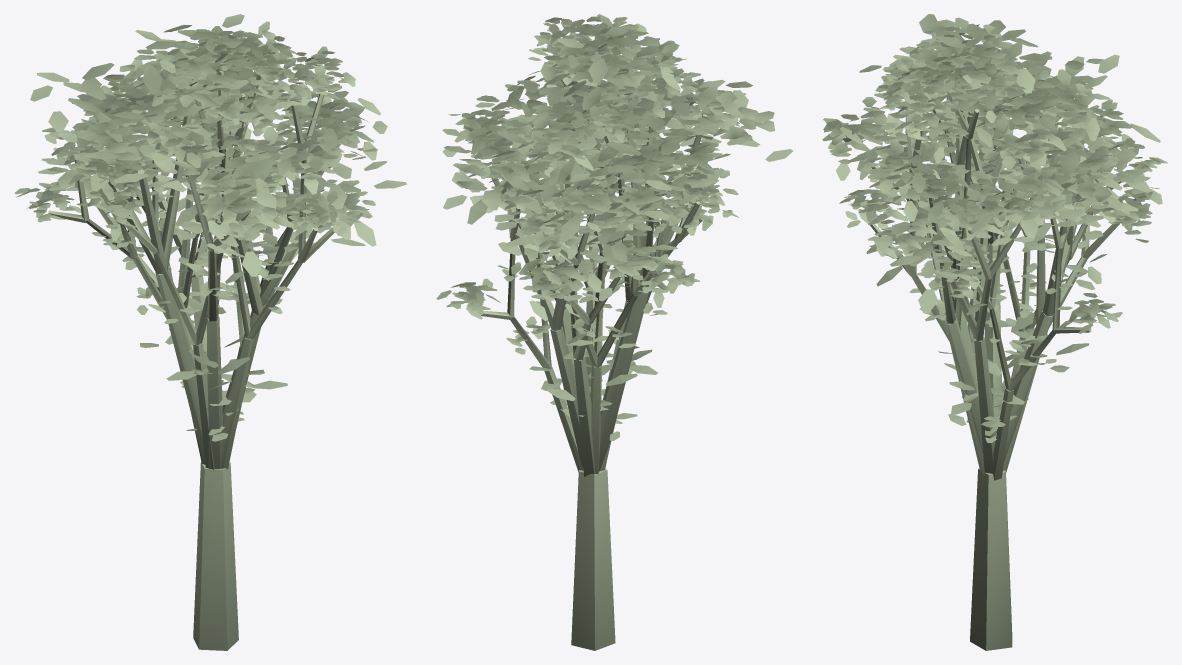
The model's file is tree_cottonwood.glb.
3 views of the same model, side by side, from view 1: azimuth 30°, elevation 25°; view 2: azimuth 150°, elevation 25°; view 3: azimuth 270°, elevation 25° (orthographic). The views are drawn at different scales.
Visible parts, largest first — view 1: tier0_foliage, tier1_foliage, tier2_foliage, tier0_bark, tier2_bark, tier1_bark; view 2: tier0_foliage, tier1_foliage, tier2_foliage, tier0_bark, tier2_bark, tier1_bark; view 3: tier1_foliage, tier0_foliage, tier2_foliage, tier0_bark, tier2_bark, tier1_bark.
Part boxes in pixels (x1=…): tier0_foliage: x1=30, y1=14, x2=407, y2=406; tier1_foliage: x1=38, y1=30, x2=387, y2=441; tier2_foliage: x1=15, y1=21, x2=375, y2=435; tier0_bark: x1=91, y1=115, x2=307, y2=650; tier2_bark: x1=48, y1=69, x2=334, y2=470; tier1_bark: x1=90, y1=92, x2=339, y2=468; tier0_foliage: x1=443, y1=25, x2=792, y2=416; tier1_foliage: x1=442, y1=36, x2=756, y2=419; tier2_foliage: x1=436, y1=14, x2=738, y2=440; tier0_bark: x1=509, y1=124, x2=707, y2=650; tier2_bark: x1=481, y1=62, x2=702, y2=474; tier1_bark: x1=491, y1=105, x2=707, y2=476; tier1_foliage: x1=822, y1=17, x2=1162, y2=442; tier0_foliage: x1=839, y1=14, x2=1160, y2=427; tier2_foliage: x1=844, y1=26, x2=1167, y2=422; tier0_bark: x1=927, y1=124, x2=1077, y2=650; tier2_bark: x1=870, y1=87, x2=1121, y2=480; tier1_bark: x1=861, y1=109, x2=1119, y2=473.
Size of the model in its own units: 0.5372 by 1 by 0.5209.
